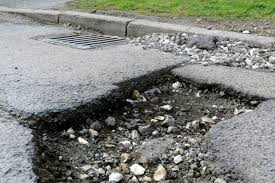pothole: (36, 62, 272, 182)
